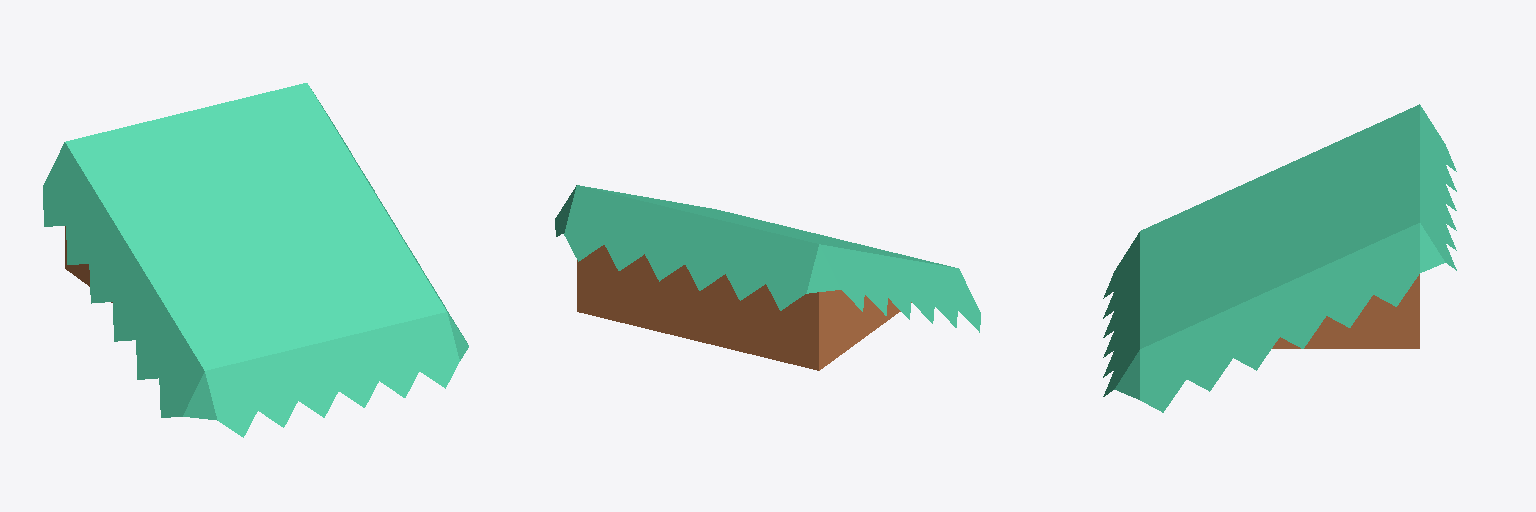
The model's file is blockSlopeHalf.obj.
3 views of the same model, side by side, from view 1: azimuth 30°, elevation 25°; view 2: azimuth 150°, elevation 25°; view 3: azimuth 270°, elevation 25° (orthographic).
Visible parts, largest first — view 1: blockSlopeHalf; view 2: blockSlopeHalf; view 3: blockSlopeHalf.
Boxes of the visible parts, x1,y1,x2,y2 form: blockSlopeHalf: [43, 83, 468, 437]; blockSlopeHalf: [555, 185, 980, 370]; blockSlopeHalf: [1103, 104, 1456, 412].
Size of the model in its own units: 1.27 by 0.7304 by 1.27.